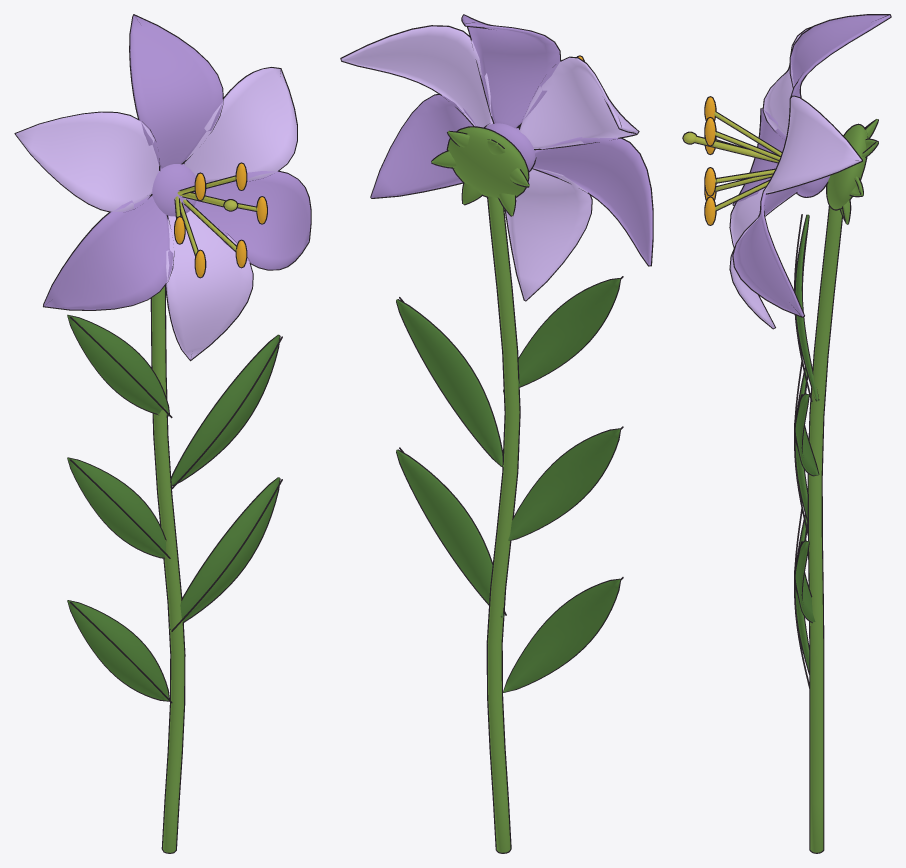
Rendered from lily_lilac.glb.
3 renders of one model, left to right at view 1: azimuth 30°, elevation 25°; view 2: azimuth 150°, elevation 25°; view 3: azimuth 270°, elevation 25°, orthographic. The views are drawn at different scales.
Visible parts, largest first — view 1: lily_Geometry; view 2: lily_Geometry; view 3: lily_Geometry.
Part boxes in pixels (x1,y1,x2,y2): lily_Geometry: (14,14,311,853); lily_Geometry: (340,14,653,853); lily_Geometry: (682,14,891,853).
Size of the model in its own units: 0.1882 by 0.5472 by 0.124.
